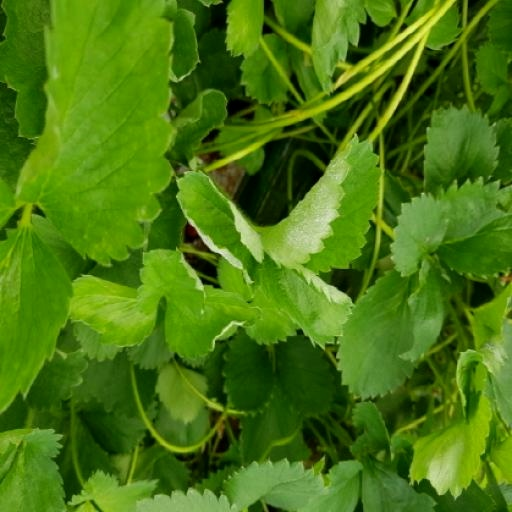Powdery Mildew Leaf: (129, 236, 259, 380), (157, 162, 265, 256), (247, 241, 337, 341), (249, 151, 349, 212), (305, 194, 378, 264)
